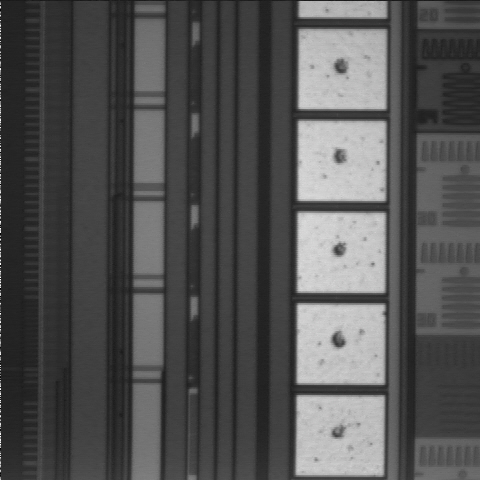pad: (298, 121, 385, 201), (298, 213, 385, 293), (296, 396, 384, 475), (299, 30, 385, 109), (297, 305, 384, 383)
